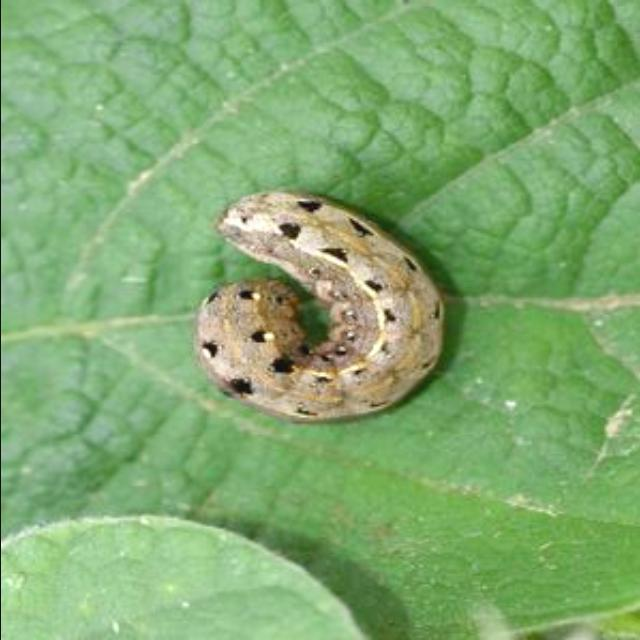Tobacco cutworm: (158, 160, 482, 472)
